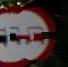No overtake: (0, 6, 55, 64)
